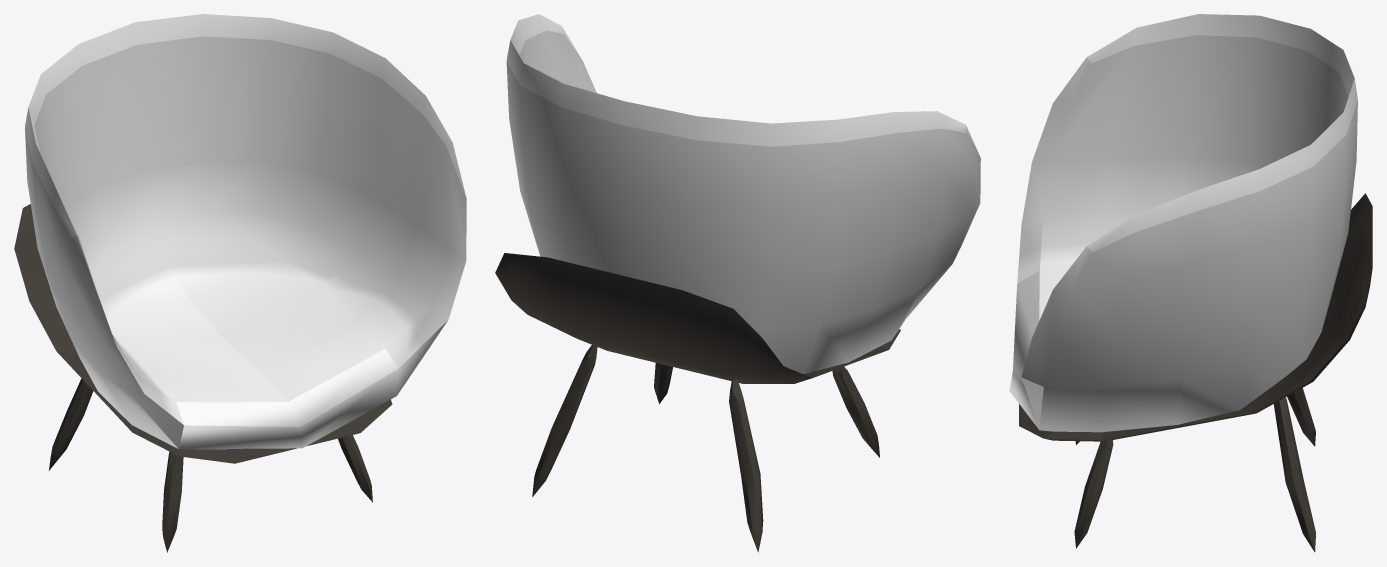
Rendered from WhiteModernArmchair.glb.
The picture shows the model from 3 angles, left to right: view 1: azimuth 30°, elevation 25°; view 2: azimuth 150°, elevation 25°; view 3: azimuth 270°, elevation 25°; orthographic projection. The views are drawn at different scales.
Parts seen in each view (by area): view 1: armchair_modern; view 2: armchair_modern; view 3: armchair_modern.
Part boxes in pixels (<box>): armchair_modern: <box>14,14,466,552</box>; armchair_modern: <box>495,14,980,552</box>; armchair_modern: <box>1009,14,1372,552</box>.
Size of what is drawn, in the model's own units: 1.22 by 1.25 by 0.9756.
Materials: 1 (1 with a texture image).
